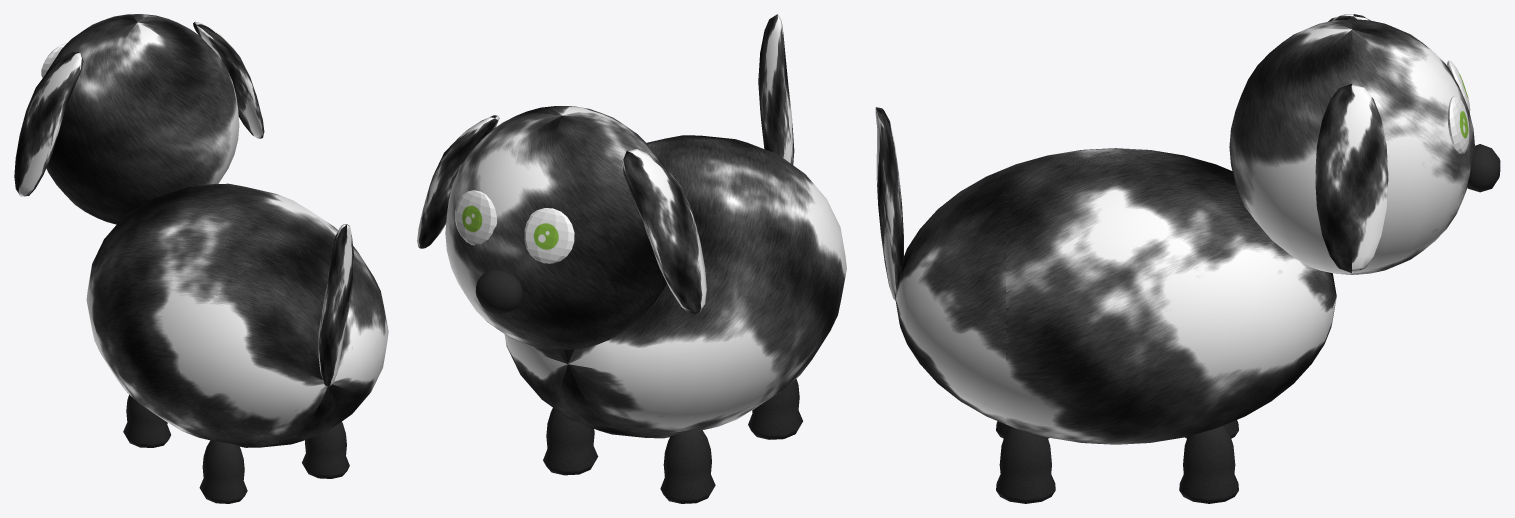
Rendered from Dog2.FBX.
3 renders of one model, left to right at view 1: azimuth 30°, elevation 25°; view 2: azimuth 150°, elevation 25°; view 3: azimuth 270°, elevation 25°, orthographic. The views are drawn at different scales.
Visible parts, largest first — view 1: pSphere1, pSphere2, pasted__pasted__pSphere3, pasted__pSphere3, pasted__pasted__pasted__pSphere4 (×2), pasted__pasted__pasted__pasted__pSphere4, pasted__pasted__pasted__pSphere3; view 2: pSphere1, pSphere2, pasted__pasted__pSphere3, pasted__pSphere3, pasted__pasted__pasted__pSphere4, pasted__pasted__pasted__pSphere3, pasted__pasted__pSphere4, pasted__pSphere4, pasted__pasted__pasted__pasted__pSphere4, pSphere4, pSphere3; view 3: pSphere1, pSphere2, pasted__pasted__pasted__pSphere3, pasted__pasted__pSphere4, pasted__pasted__pasted__pSphere4, pasted__pSphere3, pSphere3, pSphere4.
Boxes of the visible parts, x1,y1,x2,y2 form: pSphere1: [86, 183, 388, 447]; pSphere2: [46, 14, 239, 224]; pasted__pasted__pSphere3: [14, 52, 83, 196]; pasted__pSphere3: [318, 224, 353, 386]; pasted__pasted__pasted__pSphere4 (×2): [123, 394, 349, 478]; pasted__pasted__pasted__pasted__pSphere4: [199, 440, 247, 503]; pasted__pasted__pasted__pSphere3: [193, 21, 264, 138]; pSphere1: [504, 135, 846, 438]; pSphere2: [445, 106, 666, 349]; pasted__pasted__pSphere3: [621, 149, 706, 313]; pasted__pSphere3: [758, 14, 794, 164]; pasted__pasted__pasted__pSphere4: [660, 430, 715, 503]; pasted__pasted__pasted__pSphere3: [417, 115, 499, 248]; pasted__pasted__pSphere4: [543, 408, 598, 475]; pasted__pSphere4: [524, 208, 574, 263]; pasted__pasted__pasted__pasted__pSphere4: [748, 378, 802, 439]; pSphere4: [455, 190, 496, 245]; pSphere3: [475, 270, 522, 313]; pSphere1: [895, 148, 1336, 444]; pSphere2: [1229, 19, 1474, 274]; pasted__pasted__pasted__pSphere3: [1315, 84, 1388, 272]; pasted__pasted__pSphere4: [1179, 425, 1238, 503]; pasted__pasted__pasted__pSphere4: [996, 426, 1055, 503]; pasted__pSphere3: [875, 107, 904, 300]; pSphere3: [1467, 144, 1500, 192]; pSphere4: [1447, 96, 1469, 153].
Size of the model in its own units: 0.466 by 0.674 by 0.8681.
Materials: 4 (4 with a texture image).
